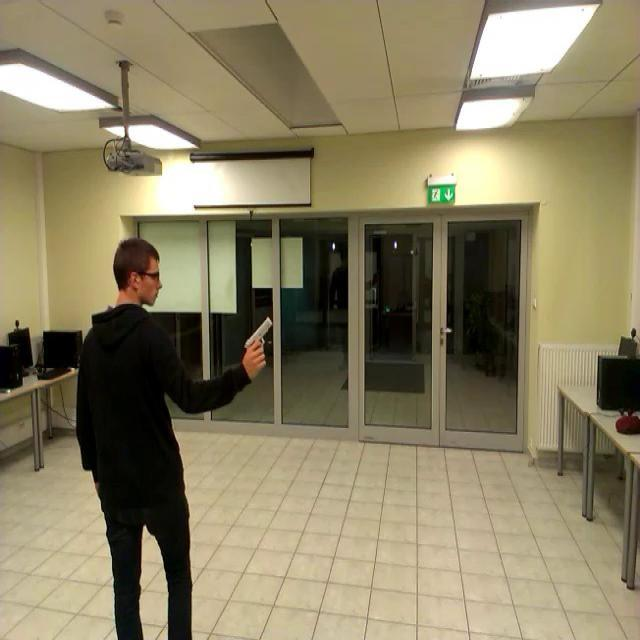weapon: (244, 315, 273, 368)
